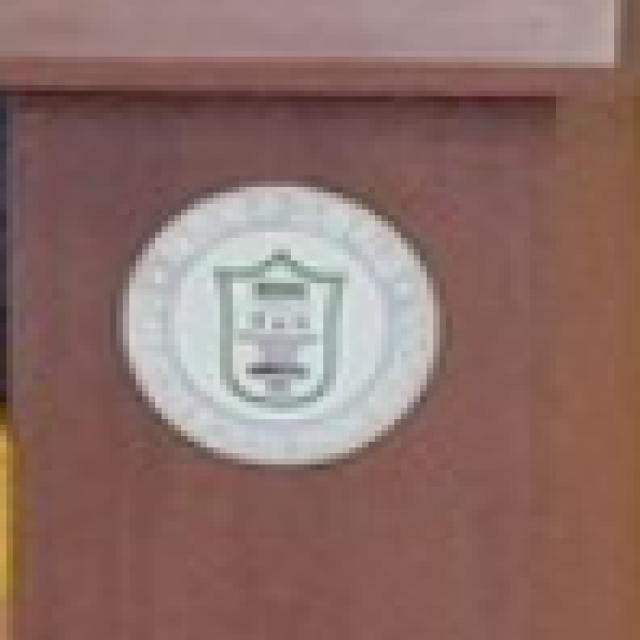logo: (100, 168, 457, 482)
